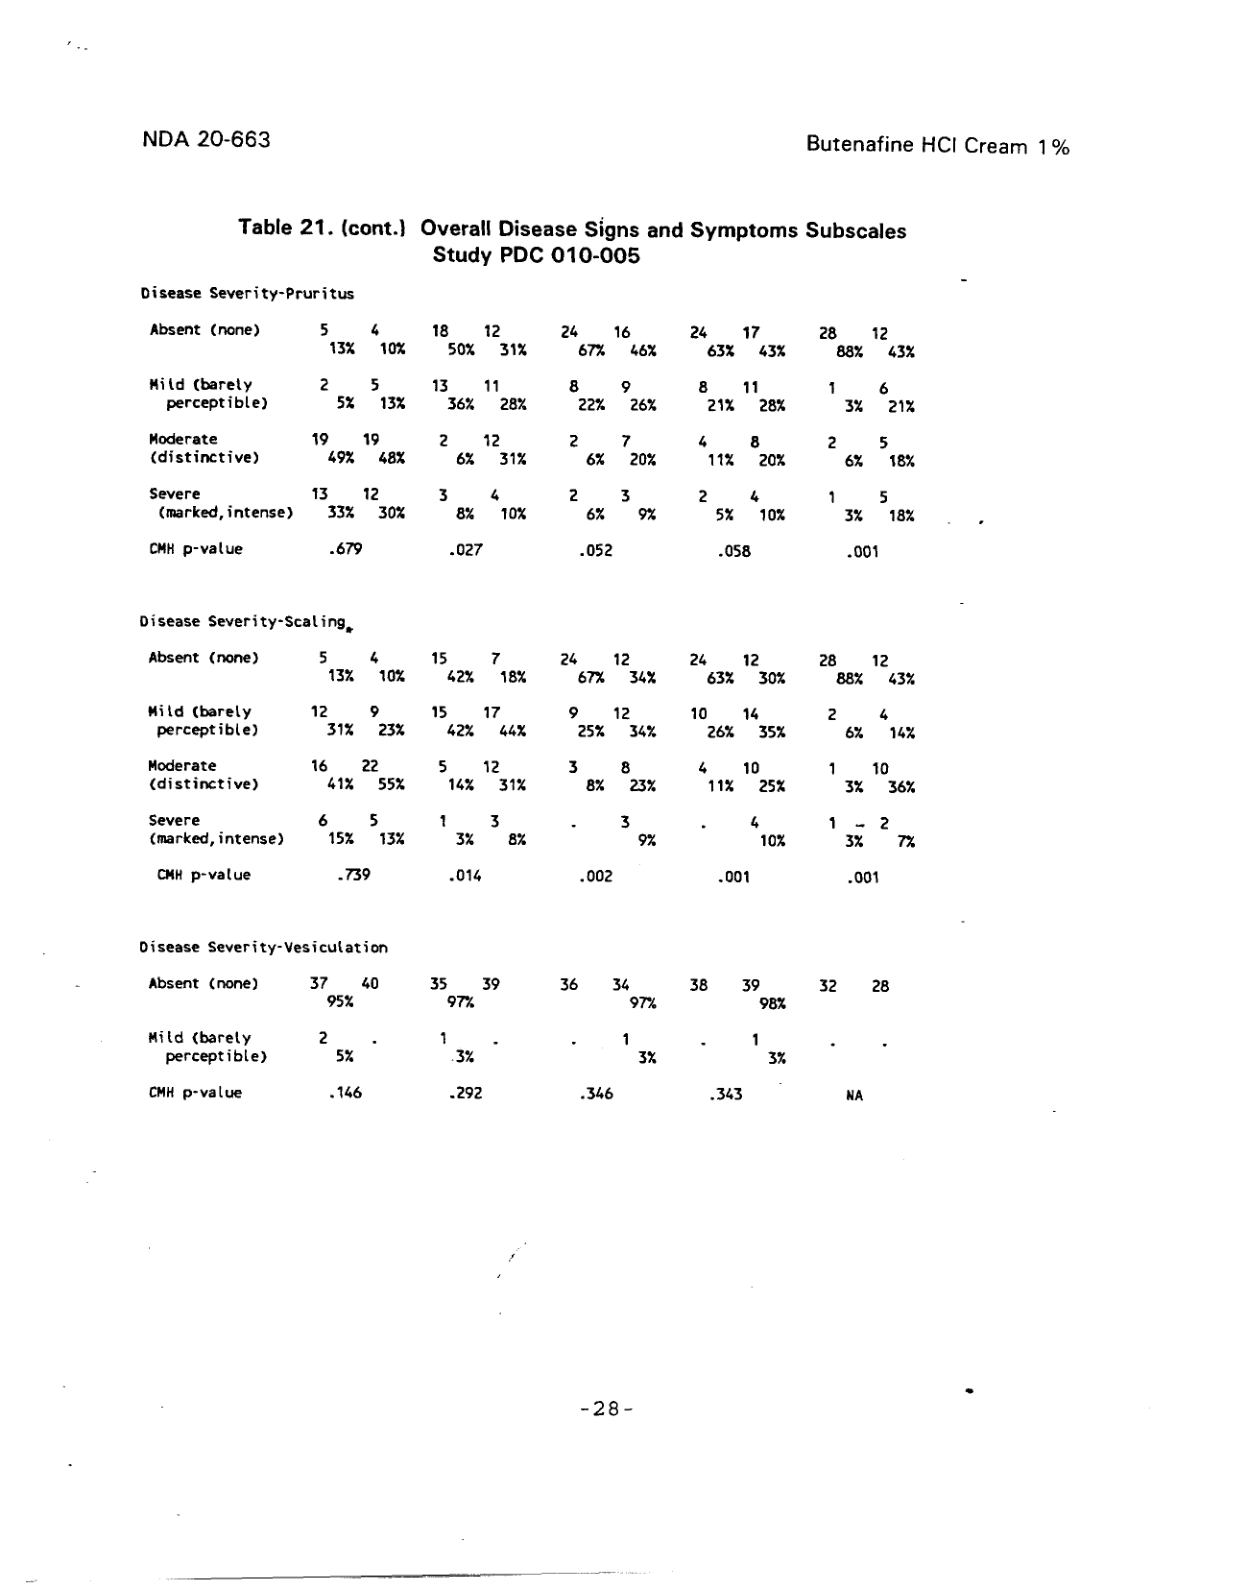nolines: (137, 281, 920, 1103)
